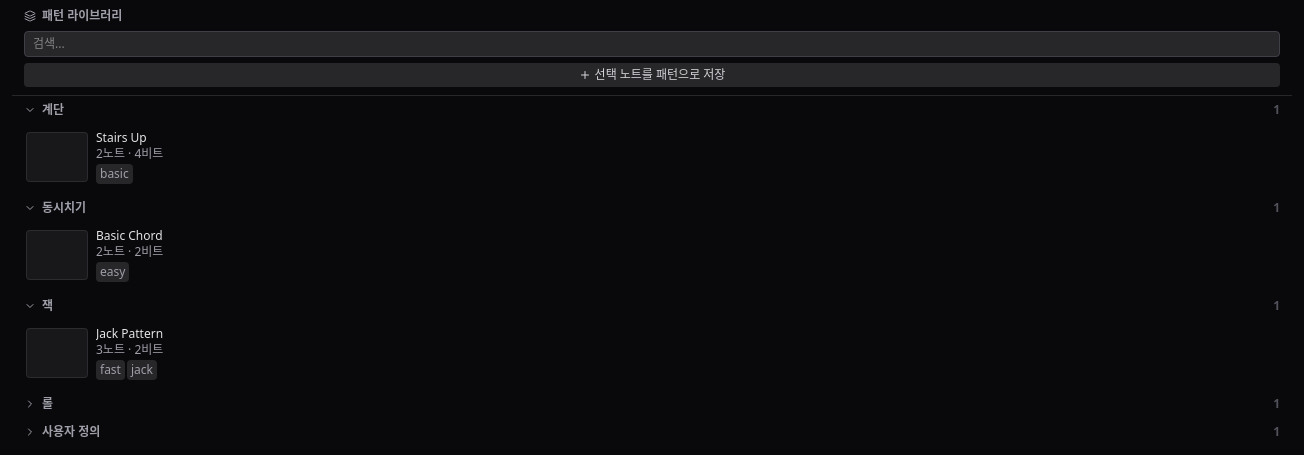
it: PatternLibraryPanel › filters patterns by name when searching
Type "Stairs" into the field with placeholder "검색...". click: [652, 44]
box: top-left (24, 31), bottom-right (1280, 57)
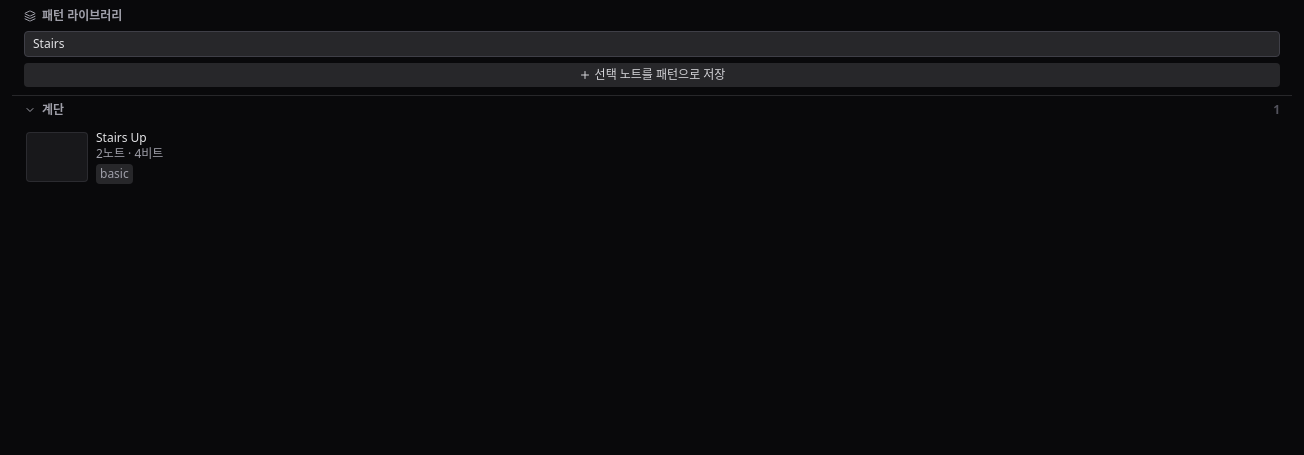
expect the text "Stairs Up" is shown: met, box top-left (96, 129), bottom-right (147, 146)
expect the text "Basic Chord" is gone: met
expect the text "Jack Pattern" is gone: met
